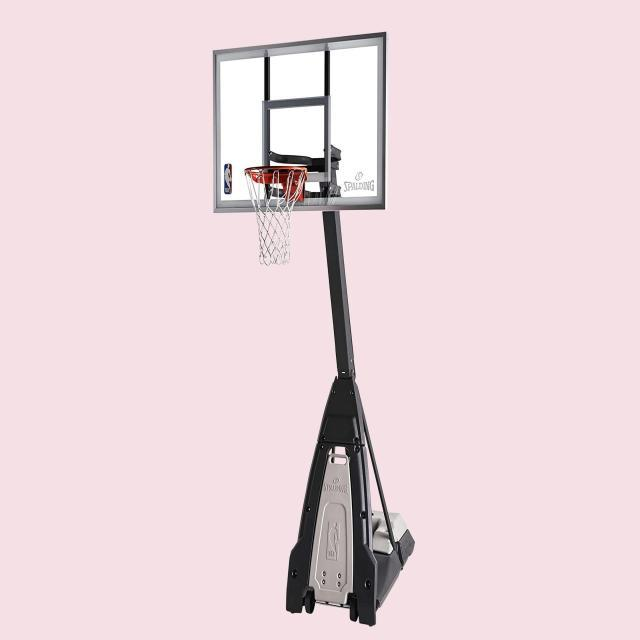hoop: (245, 166, 308, 265)
